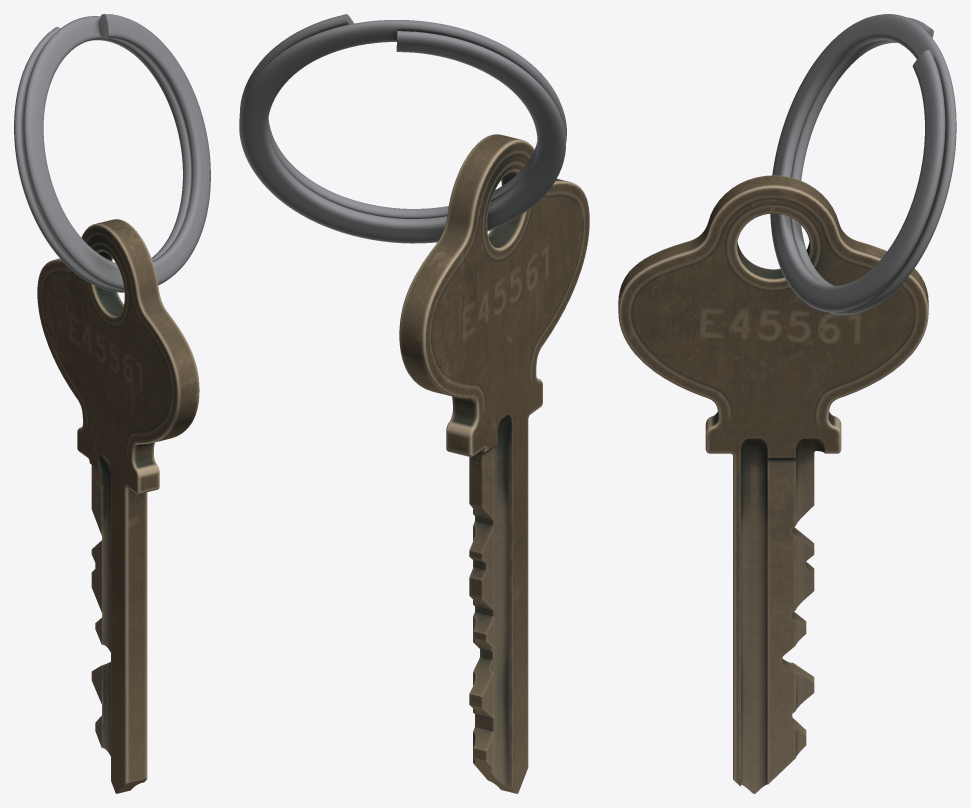
The picture shows the model from 3 angles, left to right: view 1: azimuth 30°, elevation 25°; view 2: azimuth 150°, elevation 25°; view 3: azimuth 270°, elevation 25°; orthographic projection. The views are drawn at different scales.
Parts seen in each view (by area): view 1: Key_default_0_7, Ring_default_0_9; view 2: Key_default_0_7, Ring_default_0_9; view 3: Key_default_0_7, Ring_default_0_9.
Boxes of the visible parts, x1,y1,x2,y2 form: Key_default_0_7: (37, 219, 199, 793); Ring_default_0_9: (14, 14, 210, 292); Key_default_0_7: (399, 134, 589, 793); Ring_default_0_9: (239, 14, 566, 243); Key_default_0_7: (618, 175, 928, 793); Ring_default_0_9: (770, 14, 956, 315).
Size of the model in its own units: 0.4187 by 1.25 by 0.4931.
Materials: 1 (1 with a texture image).
